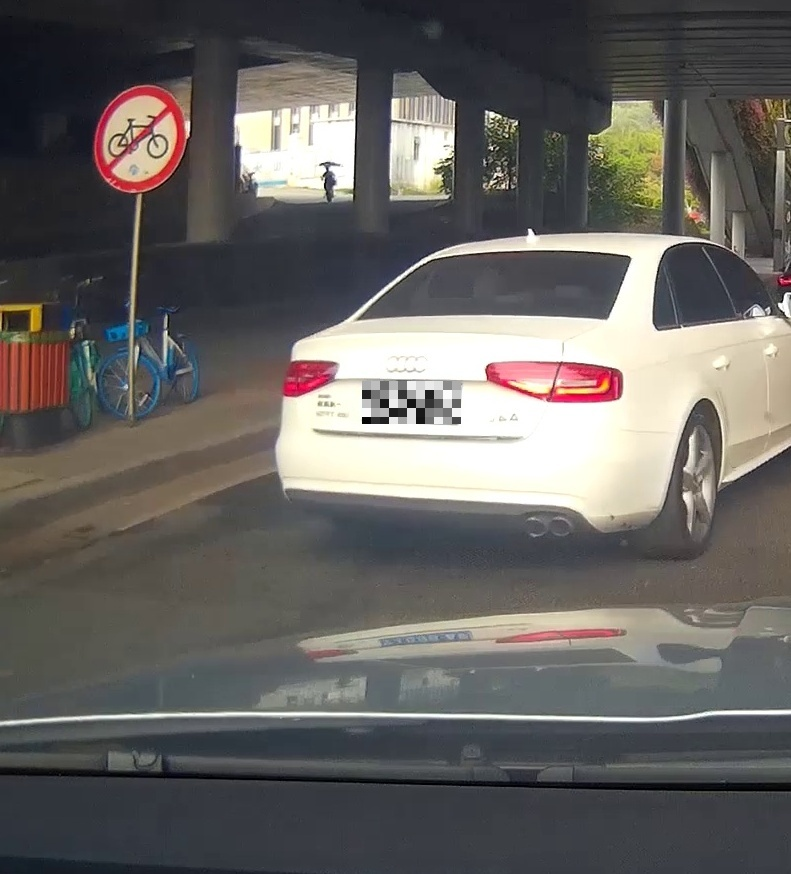L_light: (282, 359, 340, 399)
R_light: (485, 361, 624, 403)
T_light: (506, 250, 542, 259)
day-right: (275, 231, 636, 558)
plate_1: (362, 381, 461, 424)
